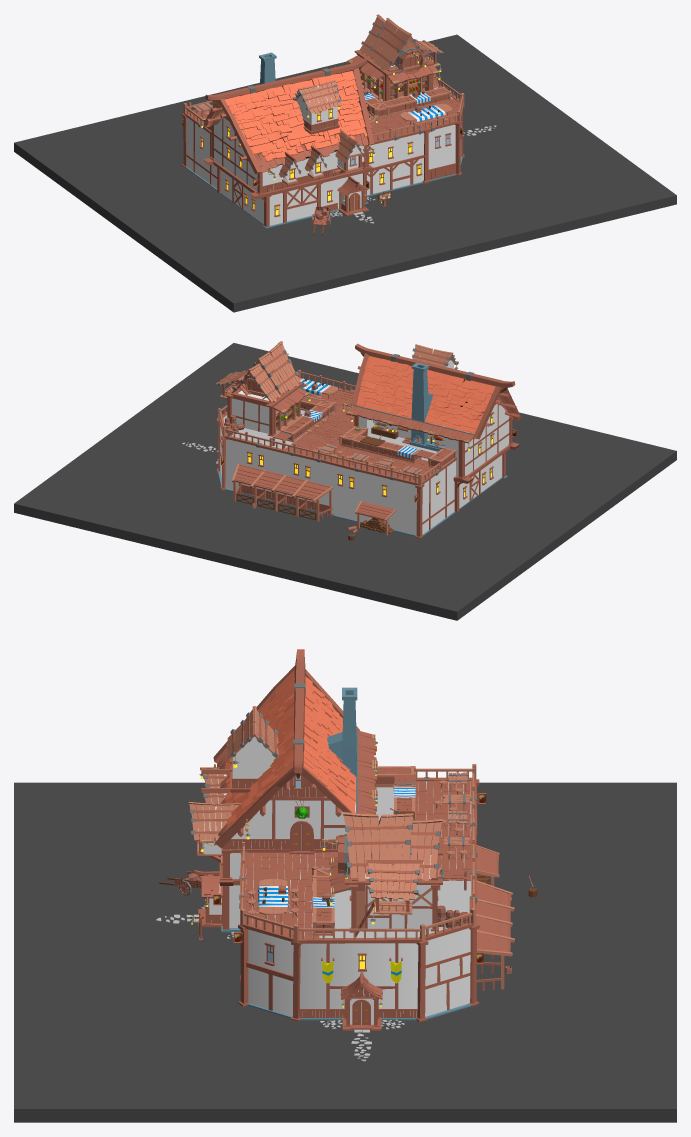
3 views of the same model, one above another, from view 1: azimuth 30°, elevation 25°; view 2: azimuth 150°, elevation 25°; view 3: azimuth 270°, elevation 25° (orthographic). The views are drawn at different scales.
Parts seen in each view (by area): view 1: ground, house; view 2: ground, house; view 3: ground, house.
Part boxes in pixels (left/top/right/bottom): ground: left=14, top=34, right=676, bottom=312; house: left=181, top=14, right=496, bottom=234; ground: left=14, top=343, right=676, bottom=620; house: left=181, top=341, right=520, bottom=540; ground: left=14, top=782, right=676, bottom=1122; house: left=156, top=649, right=537, bottom=1061.
Size of the model in its own units: 1518 by 458 by 1304.
24 materials, 3 textured.
